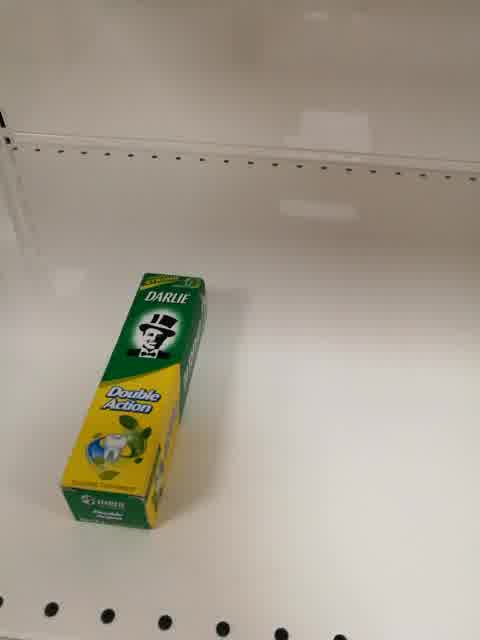toothpaste: (58, 272, 209, 533)
